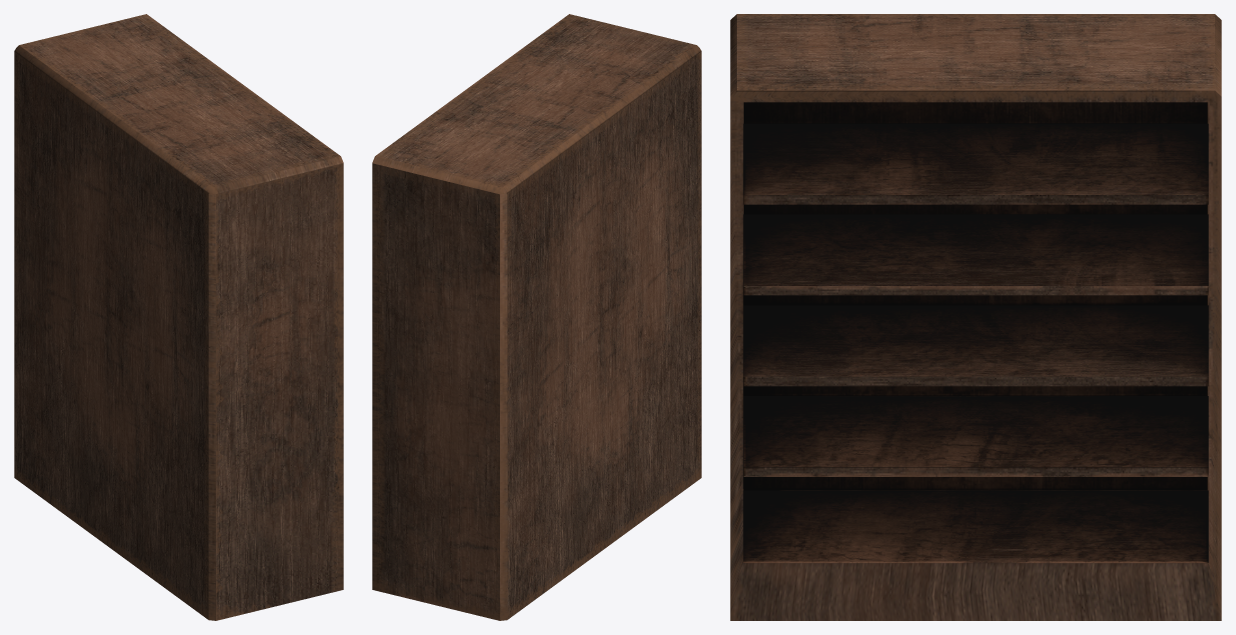
File: cupboard2.glb
3 renders of one model, left to right at view 1: azimuth 30°, elevation 25°; view 2: azimuth 150°, elevation 25°; view 3: azimuth 270°, elevation 25°, orthographic. The views are drawn at different scales.
Visible parts, largest first — view 1: Cube_0; view 2: Cube_0; view 3: Cube_0.
Part boxes in pixels (<box>): Cube_0: <box>14,14,343,620</box>; Cube_0: <box>372,14,701,620</box>; Cube_0: <box>730,14,1221,620</box>.
Size of the model in its own units: 2.82 by 8.77 by 7.36.
Materials: 1 (1 with a texture image).
